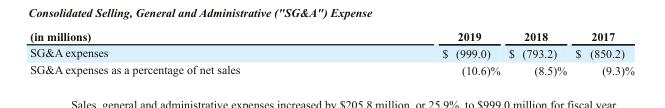table: (29, 29, 633, 77)
table column: (29, 29, 340, 77), (340, 29, 503, 77), (503, 29, 570, 77), (570, 29, 633, 77)
table column header: (29, 29, 633, 43)
table row: (29, 43, 633, 61), (29, 61, 633, 77), (29, 29, 633, 43)
